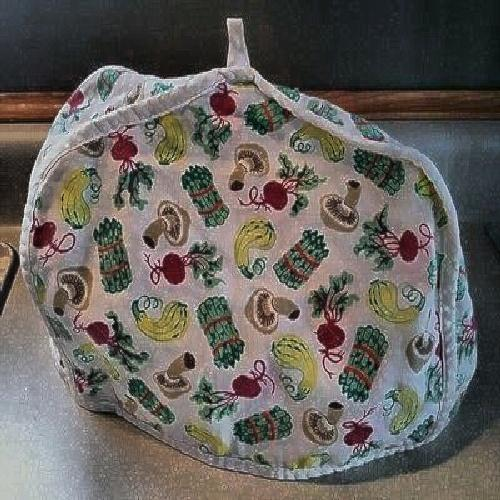toaster: (34, 46, 475, 481)
